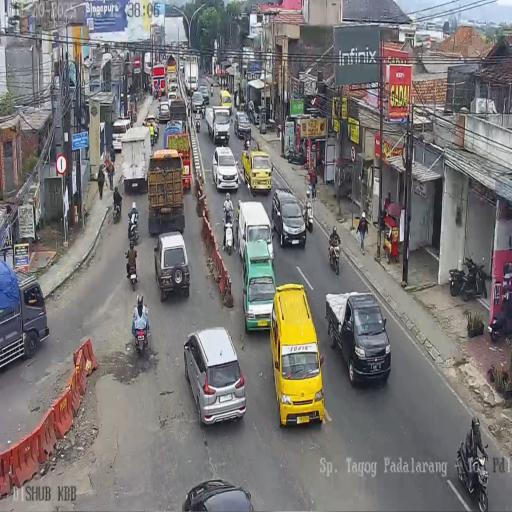3: (0, 261, 48, 372), (147, 150, 186, 238), (206, 104, 230, 146), (168, 97, 187, 129), (184, 58, 198, 96), (152, 64, 166, 97), (144, 52, 151, 75)
car: (269, 287, 324, 425), (184, 326, 248, 428), (326, 290, 389, 390), (242, 244, 275, 330), (154, 232, 190, 302), (182, 480, 256, 512), (272, 188, 306, 248), (242, 148, 272, 196), (212, 145, 238, 193), (112, 117, 132, 153), (234, 110, 251, 140), (219, 89, 232, 114), (158, 99, 170, 122), (198, 85, 210, 107), (169, 76, 178, 94)
truck: (457, 437, 489, 512), (488, 306, 508, 342), (449, 262, 467, 296), (132, 318, 148, 355), (222, 216, 235, 256), (328, 236, 341, 274), (285, 142, 306, 165), (128, 257, 138, 288), (128, 218, 139, 244), (112, 198, 122, 224), (194, 112, 202, 132), (150, 128, 156, 147), (244, 136, 251, 151), (200, 103, 206, 119), (276, 123, 281, 138), (210, 83, 214, 97)
